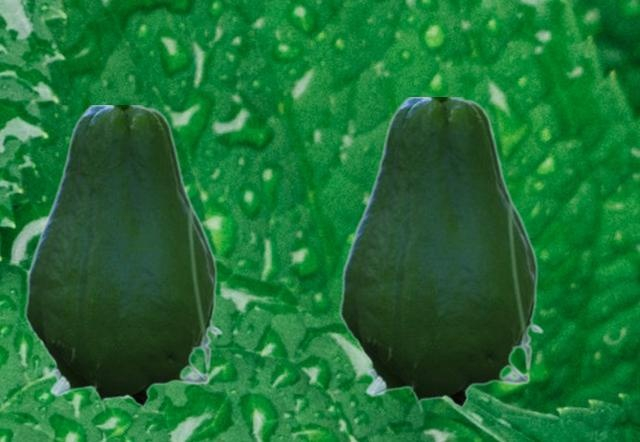sayote: (339, 97, 543, 413), (24, 105, 222, 412)
